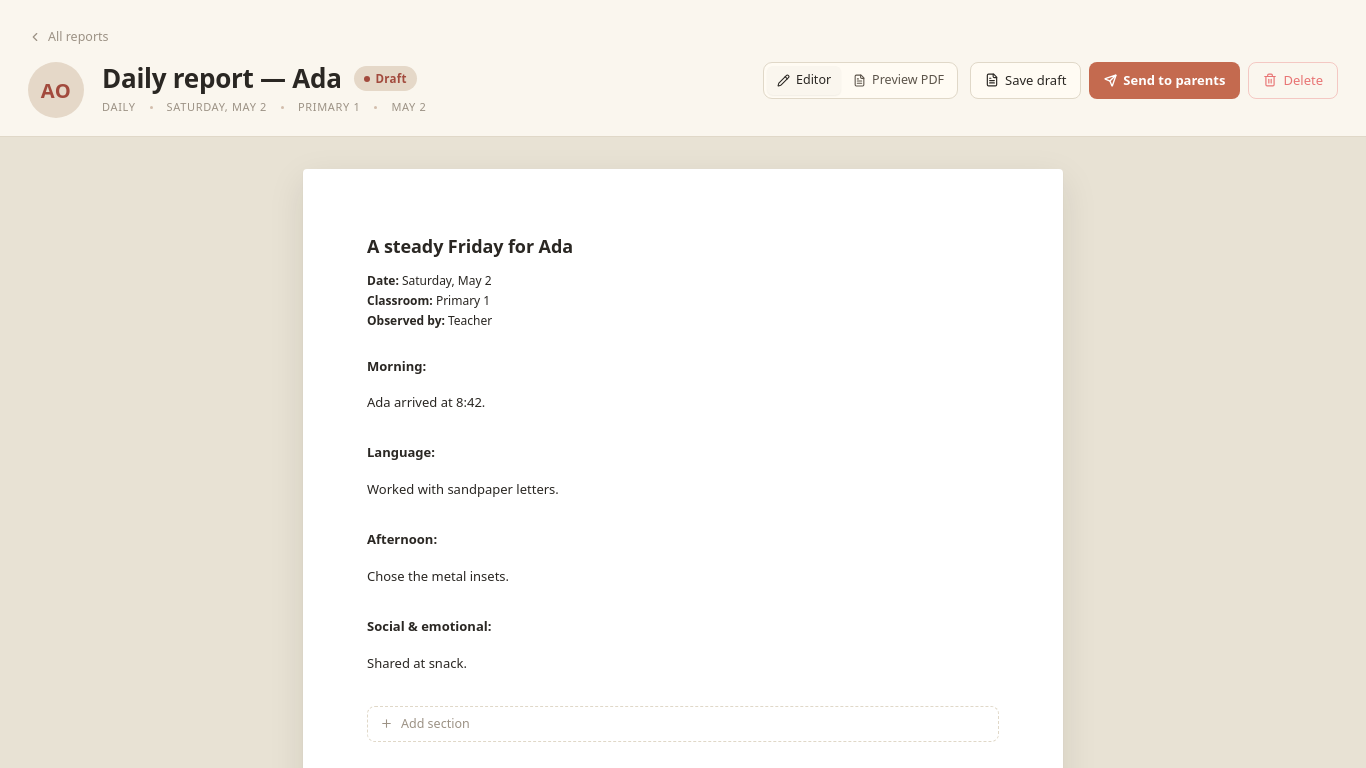
Test case: ReportDetail › creates a new section via the inline prompt
The width and height of the screenshot is (1366, 768).
Click the button "Add section".
click(435, 723)  # box top-left (367, 706), bottom-right (999, 742)
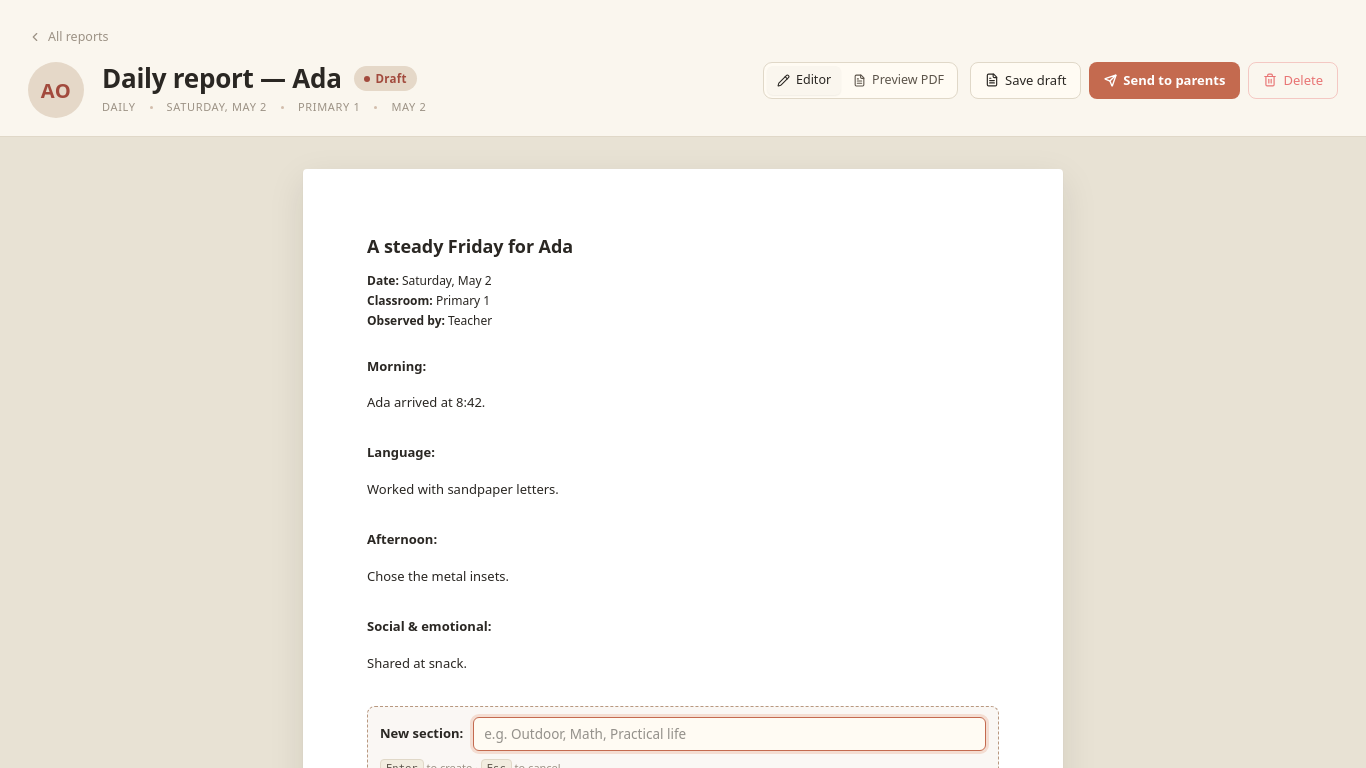
Type "Outdoor" into the field named "New section heading".
click(730, 734); type("Outdoor")  # box top-left (473, 717), bottom-right (986, 751)
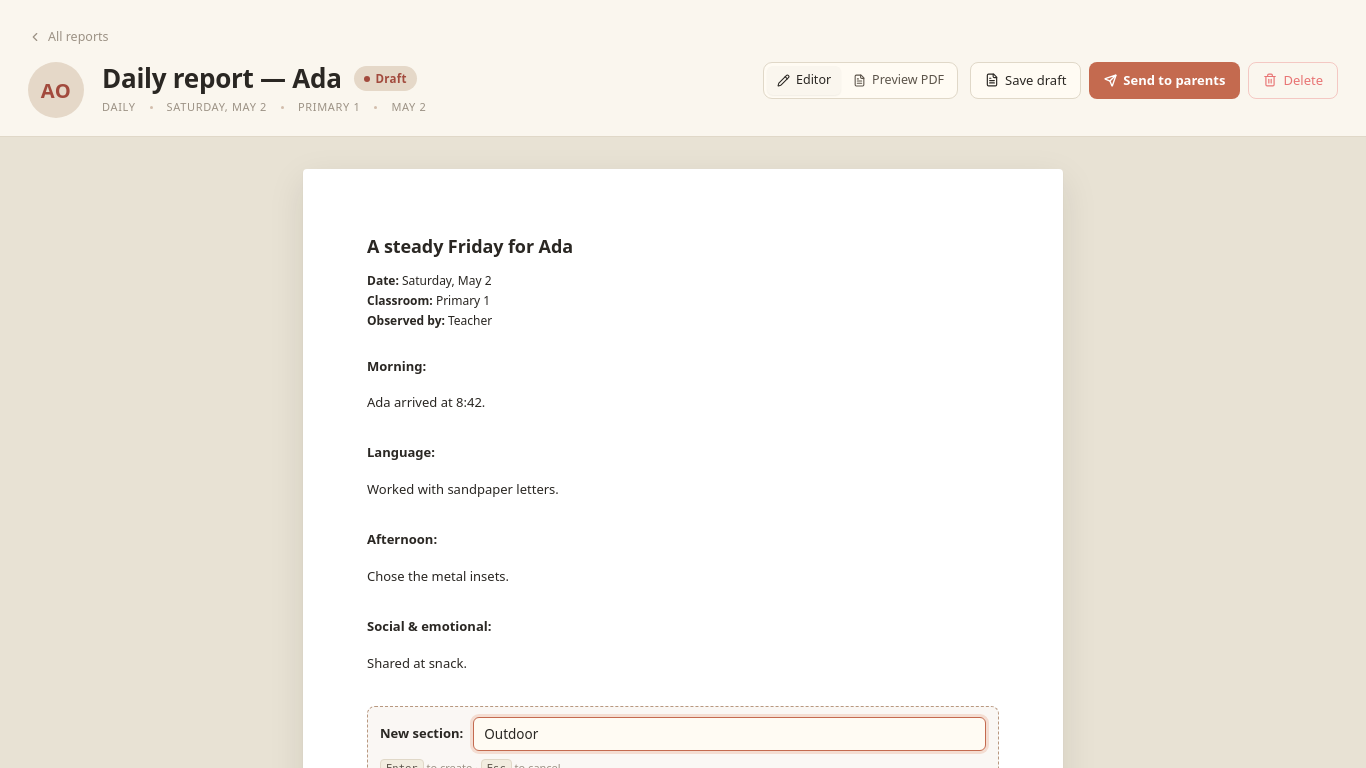
Press Enter in the field named "New section heading", box top-left (473, 717), bottom-right (986, 751)
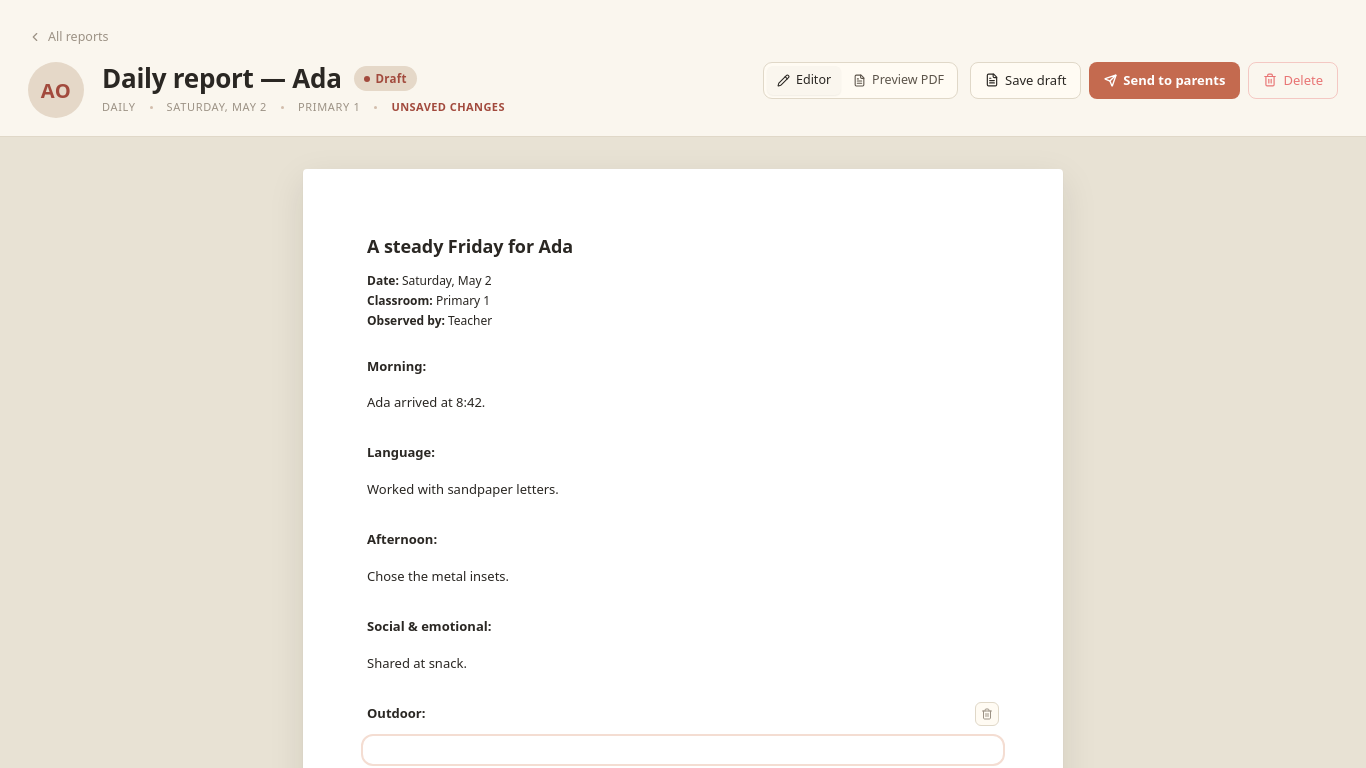
Check: the text "Outdoor" is shown, box top-left (367, 704), bottom-right (426, 723)
Check: the text "Unsaved changes" is shown, box top-left (391, 99), bottom-right (505, 116)
Check: the field named "Outdoor paragraph" is shown, box top-left (367, 740), bottom-right (999, 760)
